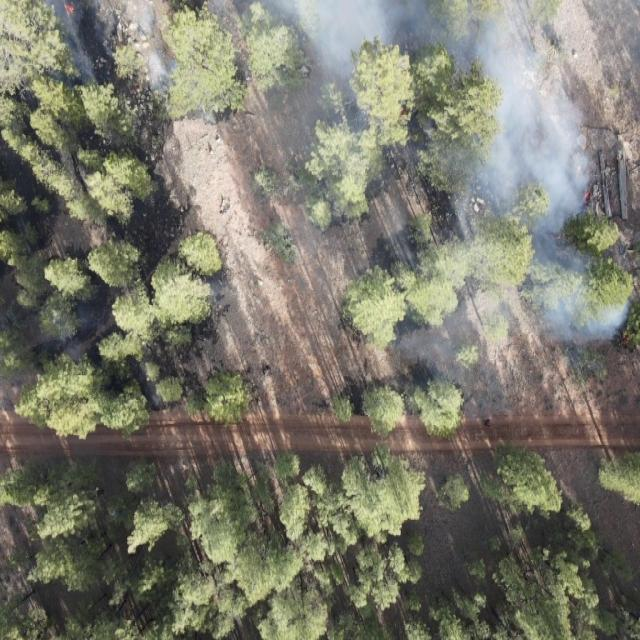fire: (61, 2, 78, 18), (582, 188, 592, 204)
smoke: (0, 0, 640, 89), (269, 90, 598, 246), (376, 247, 638, 357), (434, 356, 517, 416), (34, 298, 90, 353)
